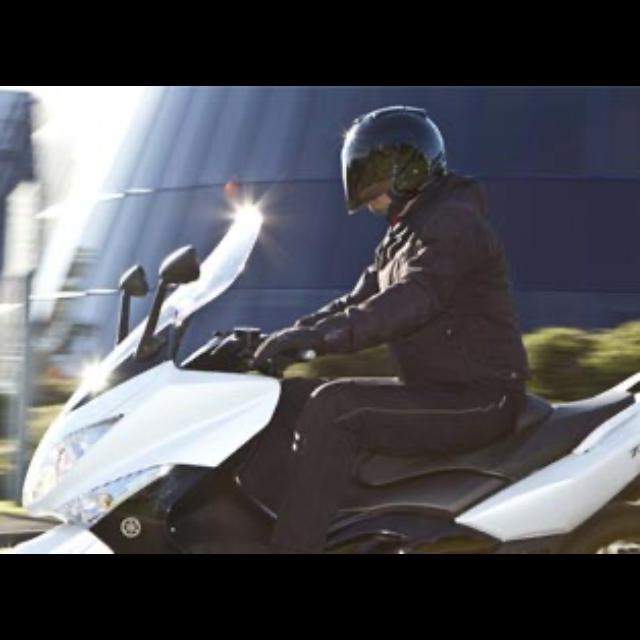With Helmet: (332, 104, 456, 222)
